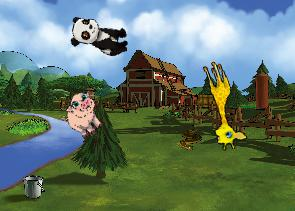giraffe: (191, 58, 249, 153)
panda: (67, 14, 132, 58)
pig: (56, 87, 111, 143)
